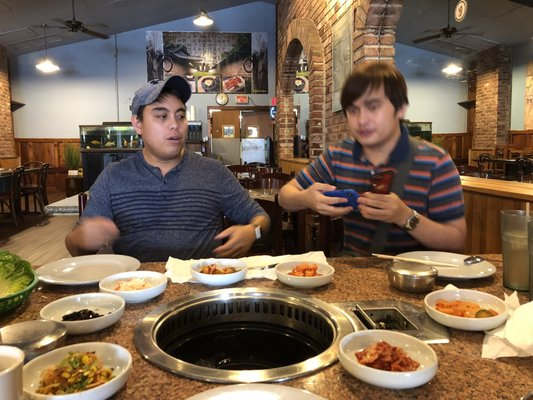pizza: (499, 209, 533, 294), (0, 346, 25, 400)
sushi: (21, 341, 133, 400), (338, 329, 439, 390), (39, 292, 127, 336), (424, 286, 510, 331), (33, 254, 141, 287), (0, 247, 40, 321), (99, 270, 169, 304), (387, 259, 438, 293), (275, 261, 335, 289), (191, 258, 248, 287)
